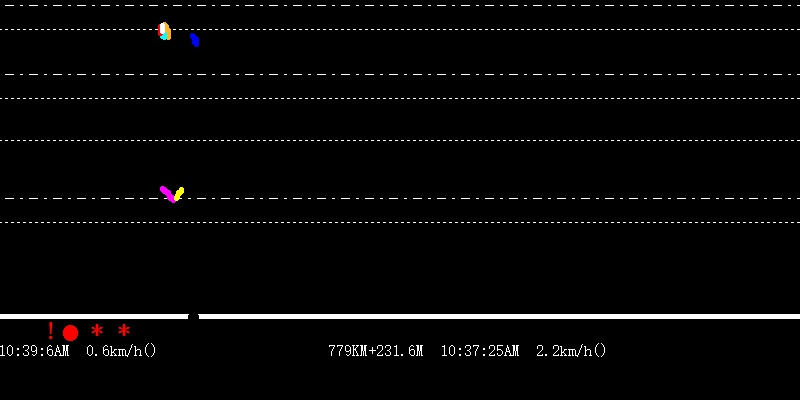circle: (62, 321, 80, 346)
face_2: (155, 21, 173, 41)
face_down: (189, 27, 201, 50)
star: (114, 322, 135, 341), (89, 322, 106, 338)
